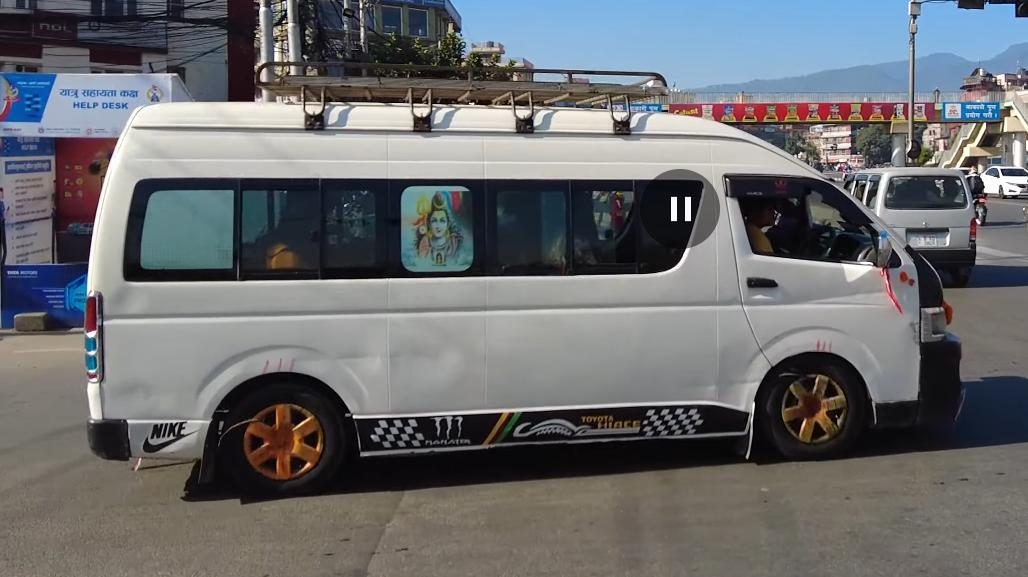micro_bus: (68, 58, 967, 504)
